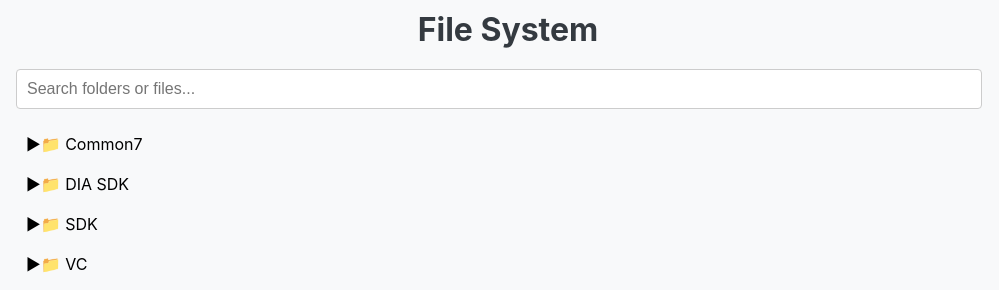
it: App Component › renders No Results when search query does not match
In the field with placeholder "Search folders or files...": (499, 89) [16,69,982,109], type "nonexistent"
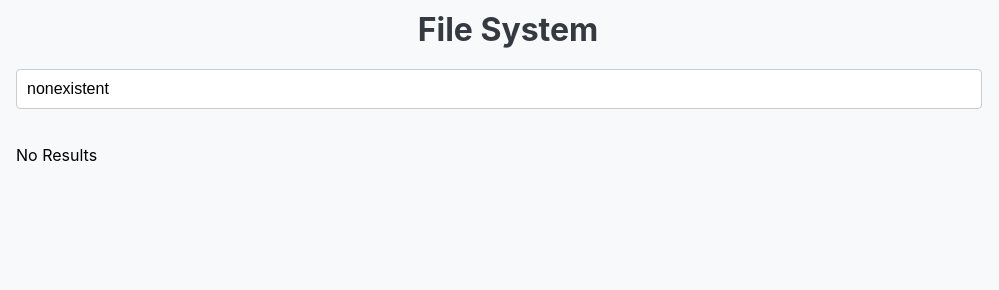
Check: the text "No Results" is shown, box [16,145,97,165]
